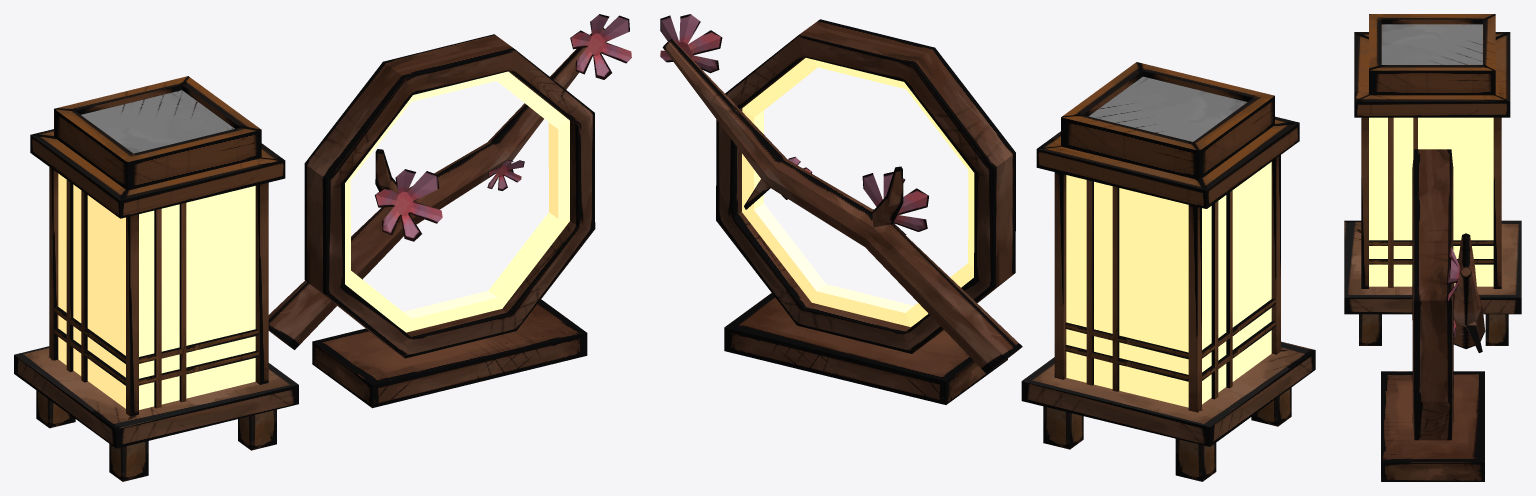
The model's file is Lamp 1&5 (1).glb.
3 renders of one model, left to right at view 1: azimuth 30°, elevation 25°; view 2: azimuth 150°, elevation 25°; view 3: azimuth 270°, elevation 25°, orthographic. The views are drawn at different scales.
Visible parts, largest first — view 1: Lamp 5, Lamp 1, Light, Light.002; view 2: Lamp 5, Lamp 1, Light, Light.002; view 3: Lamp 1, Lamp 5, Light.
Part boxes in pixels (x1,y1,x2,y2): Lamp 5: (268, 14, 631, 408); Lamp 1: (14, 76, 298, 481); Light: (58, 173, 255, 409); Light.002: (345, 71, 569, 332); Lamp 5: (660, 14, 1022, 404); Lamp 1: (1021, 62, 1315, 481); Light: (1066, 162, 1271, 407); Light.002: (742, 58, 974, 326); Lamp 1: (1344, 14, 1521, 345); Lamp 5: (1381, 149, 1485, 481); Light: (1369, 117, 1493, 286).
Size of the model in its own units: 0.7077 by 0.3677 by 0.2179.
2 materials, 1 textured.
